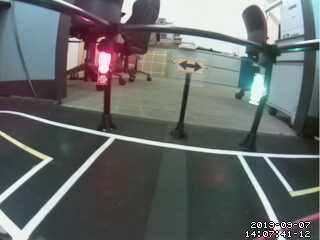Left_Right_sign: (176, 58, 205, 75)
Traffic_light_green: (250, 69, 268, 110)
Traffic_light_red: (97, 53, 113, 88)
